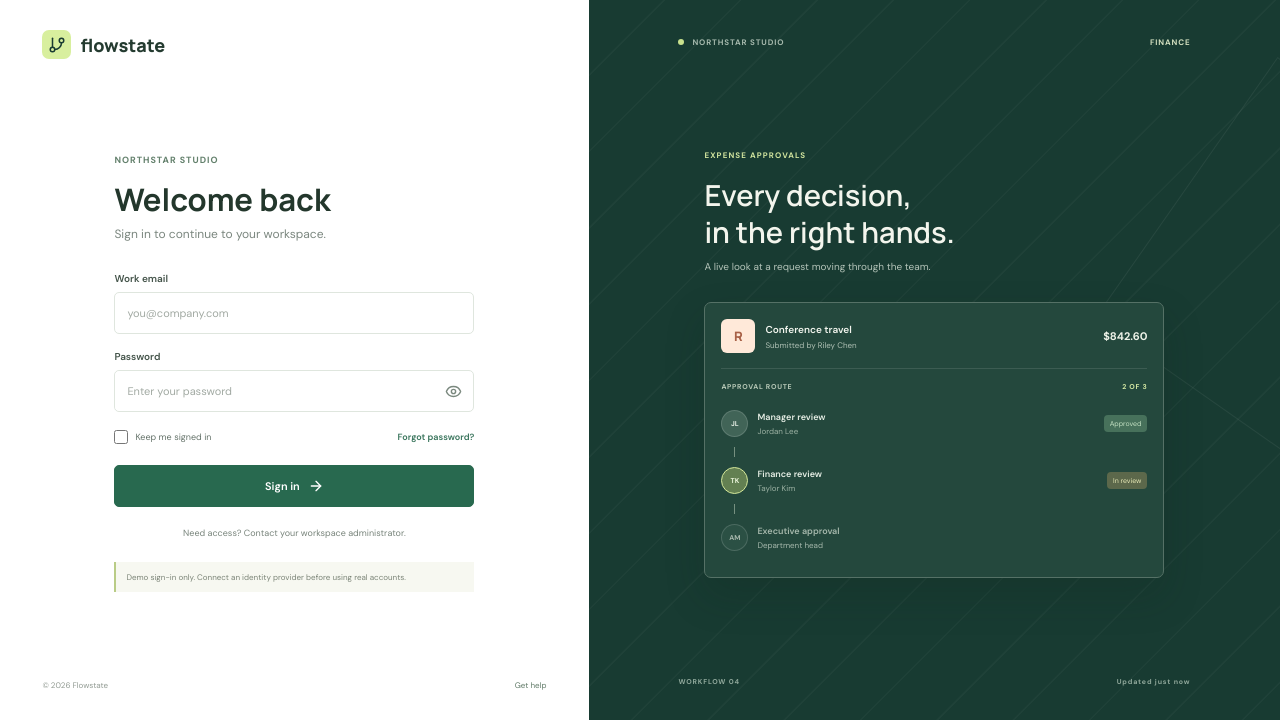
Test: login screen › rejects credentials that are not a demo account
Type "sam.carter@northstar.studio" into the field labelled "Work email" at point(294, 313), box [114, 292, 474, 334]
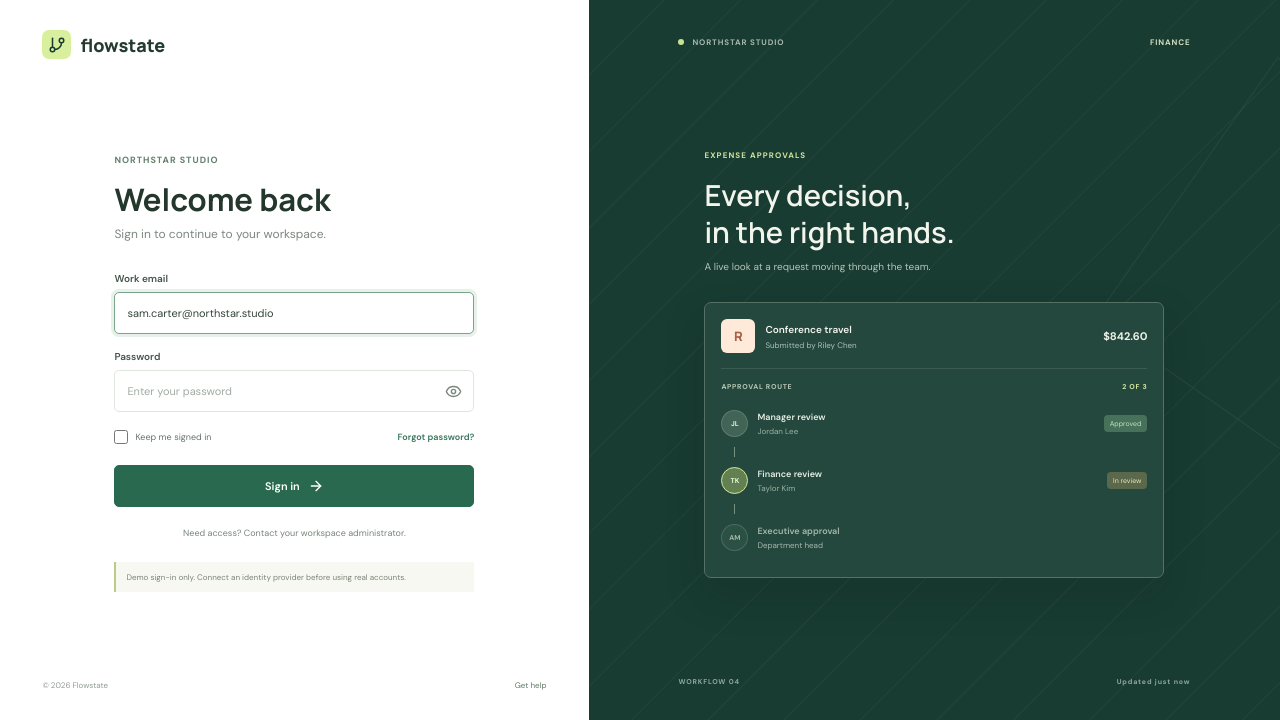
Type "wrong-password" into the password field labelled "Password" at point(275, 391), box [115, 371, 434, 411]
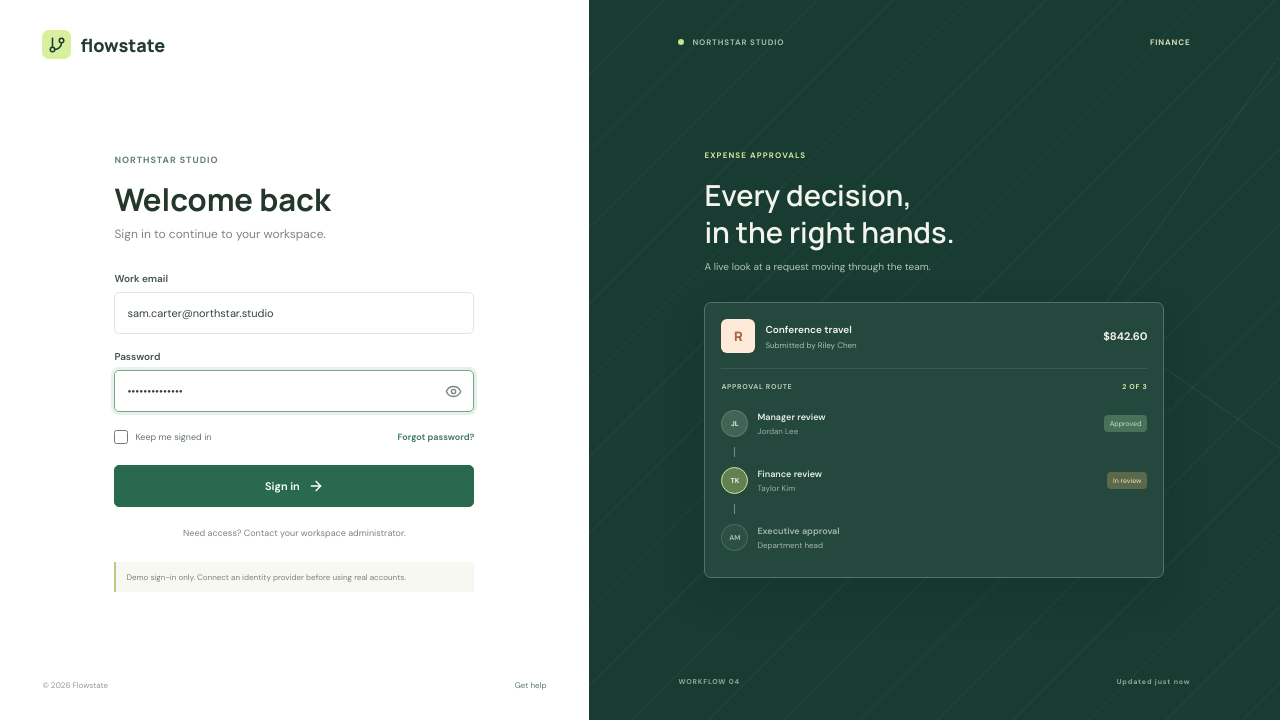
Click the button "Sign in" at point(294, 486), box [114, 465, 474, 507]
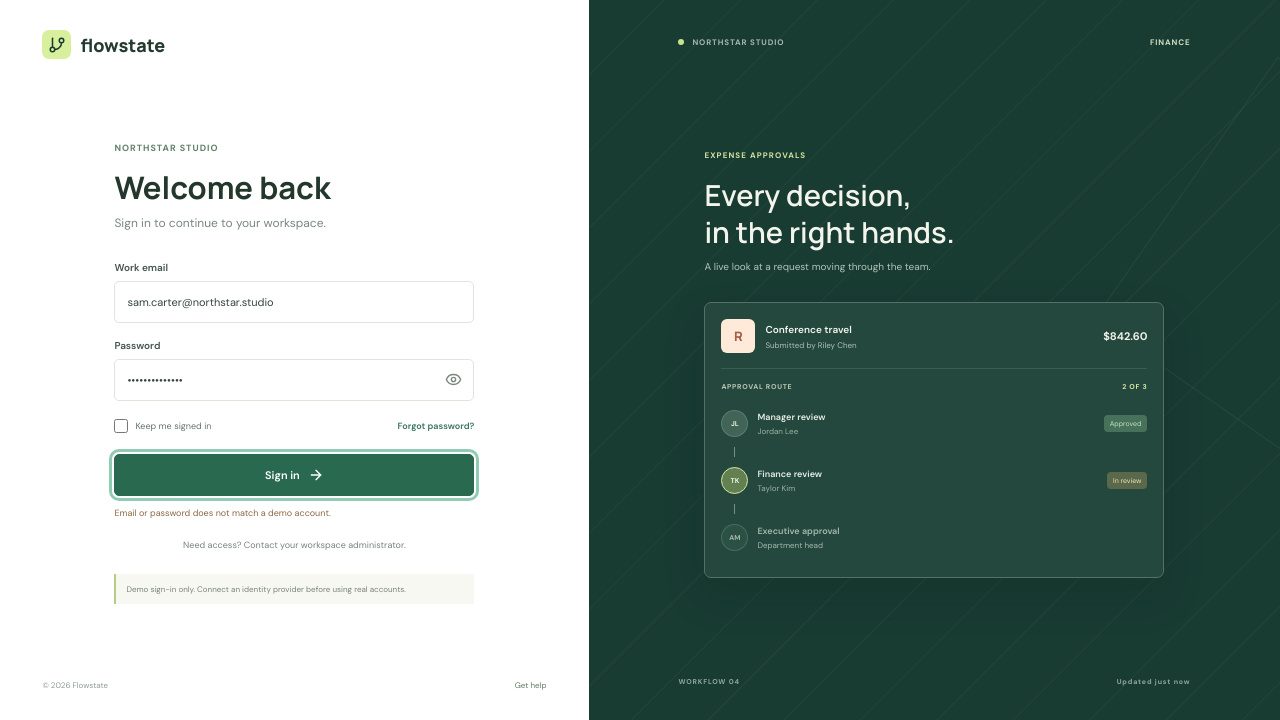
Expected: the message shows "does not match", [114, 507, 331, 519]
